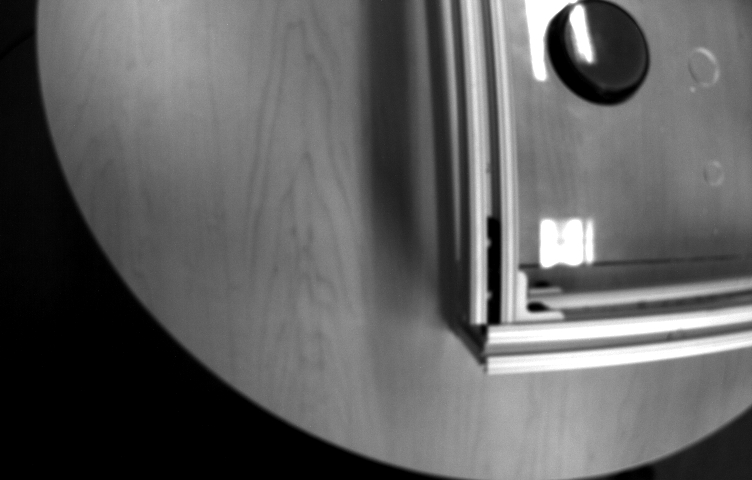big_red_button: (530, 1, 670, 107)
